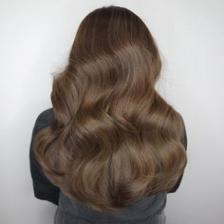brown: (29, 7, 187, 224)
